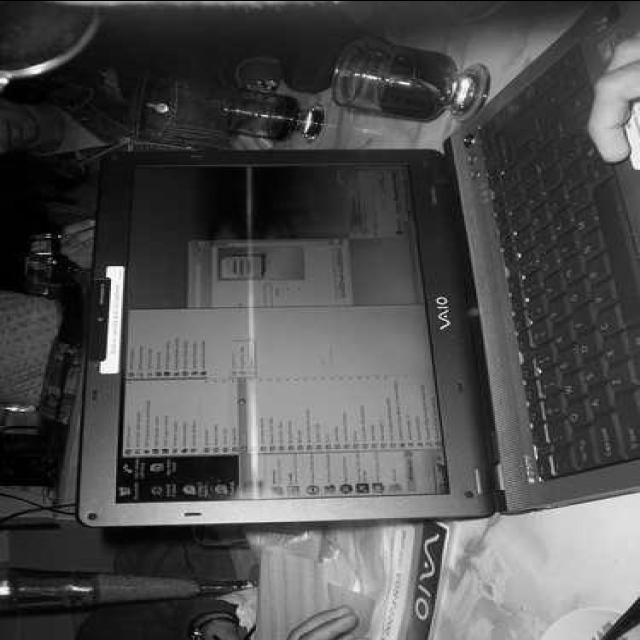laptop: (90, 44, 640, 534)
